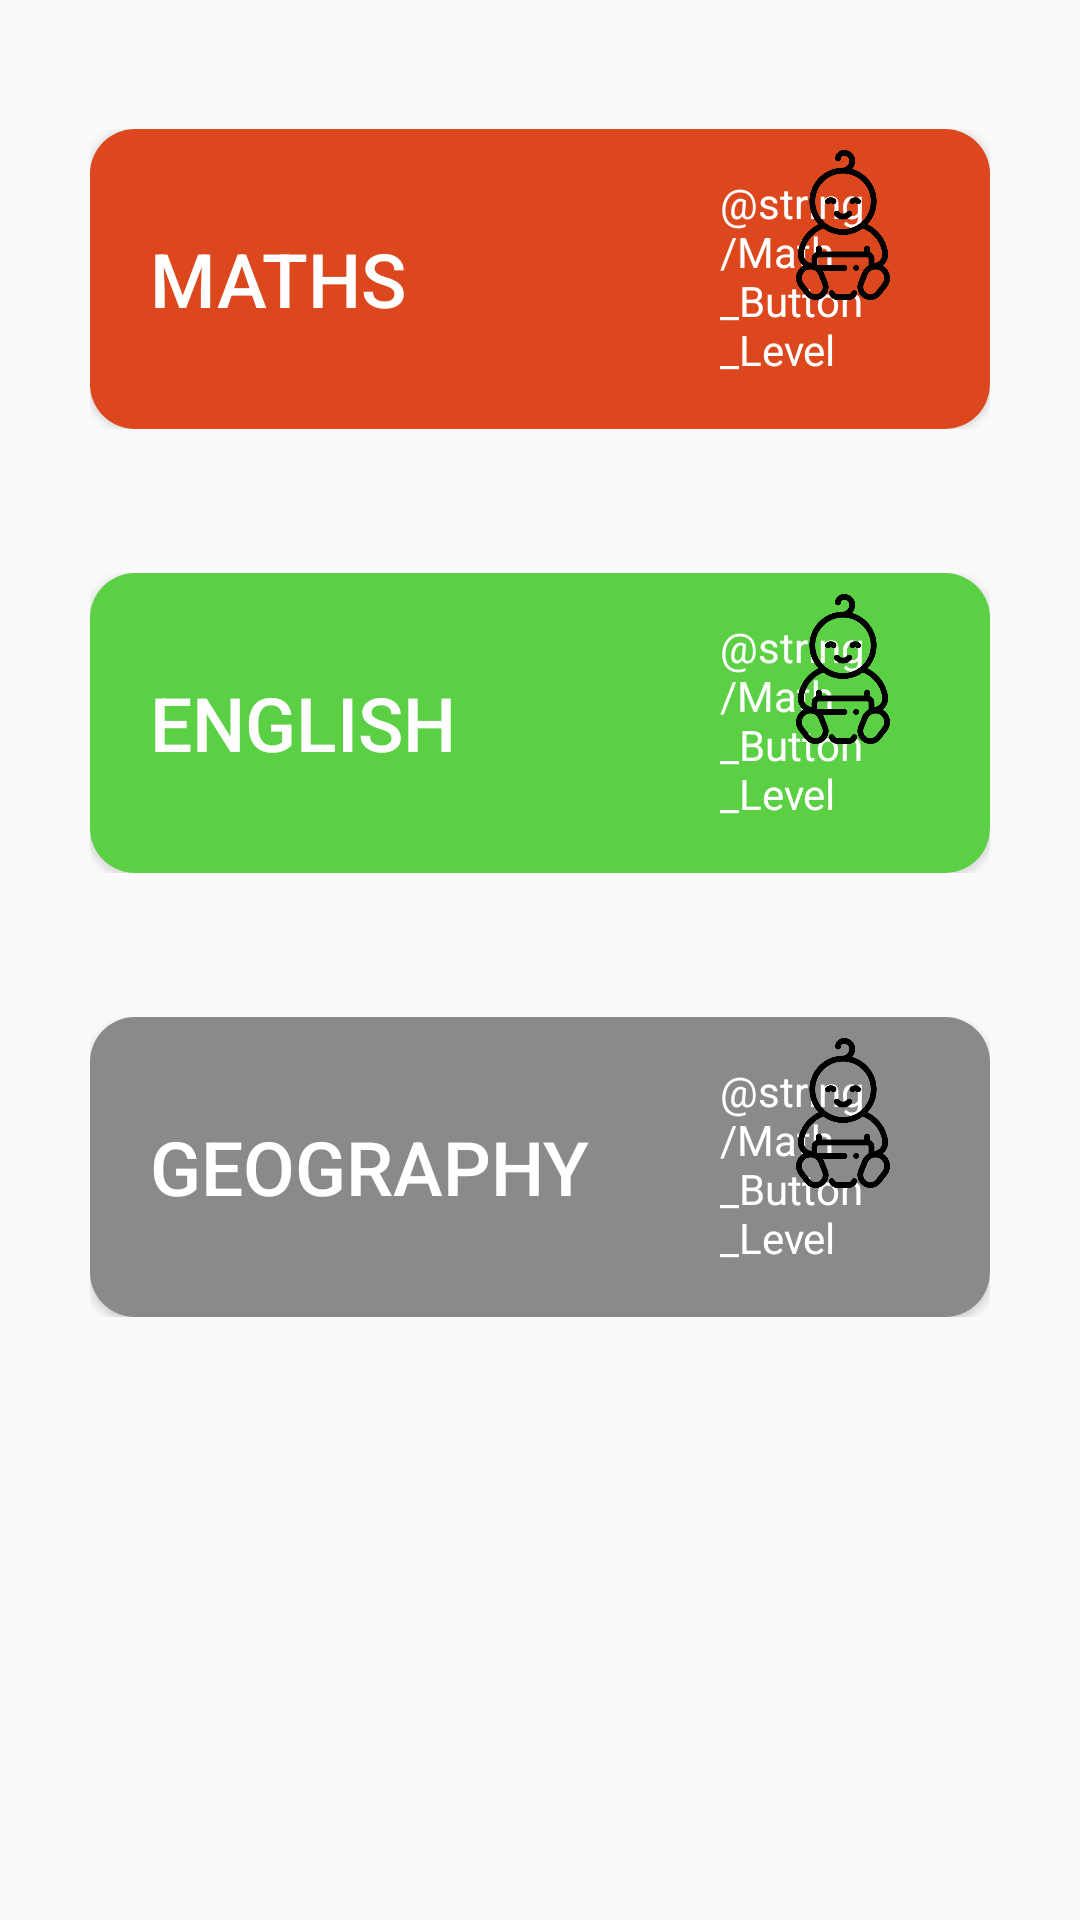

Named icons in this screenshot (1080 × 1920) and their bounding boxes, (x1, y1, x2, y2):
child: (768, 150, 890, 300), (768, 594, 890, 744), (768, 1038, 890, 1188)
